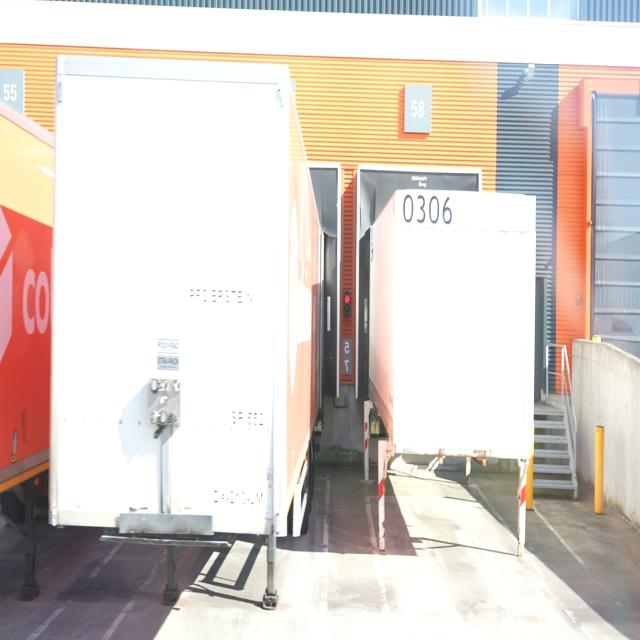Code: (401, 189, 455, 229)
